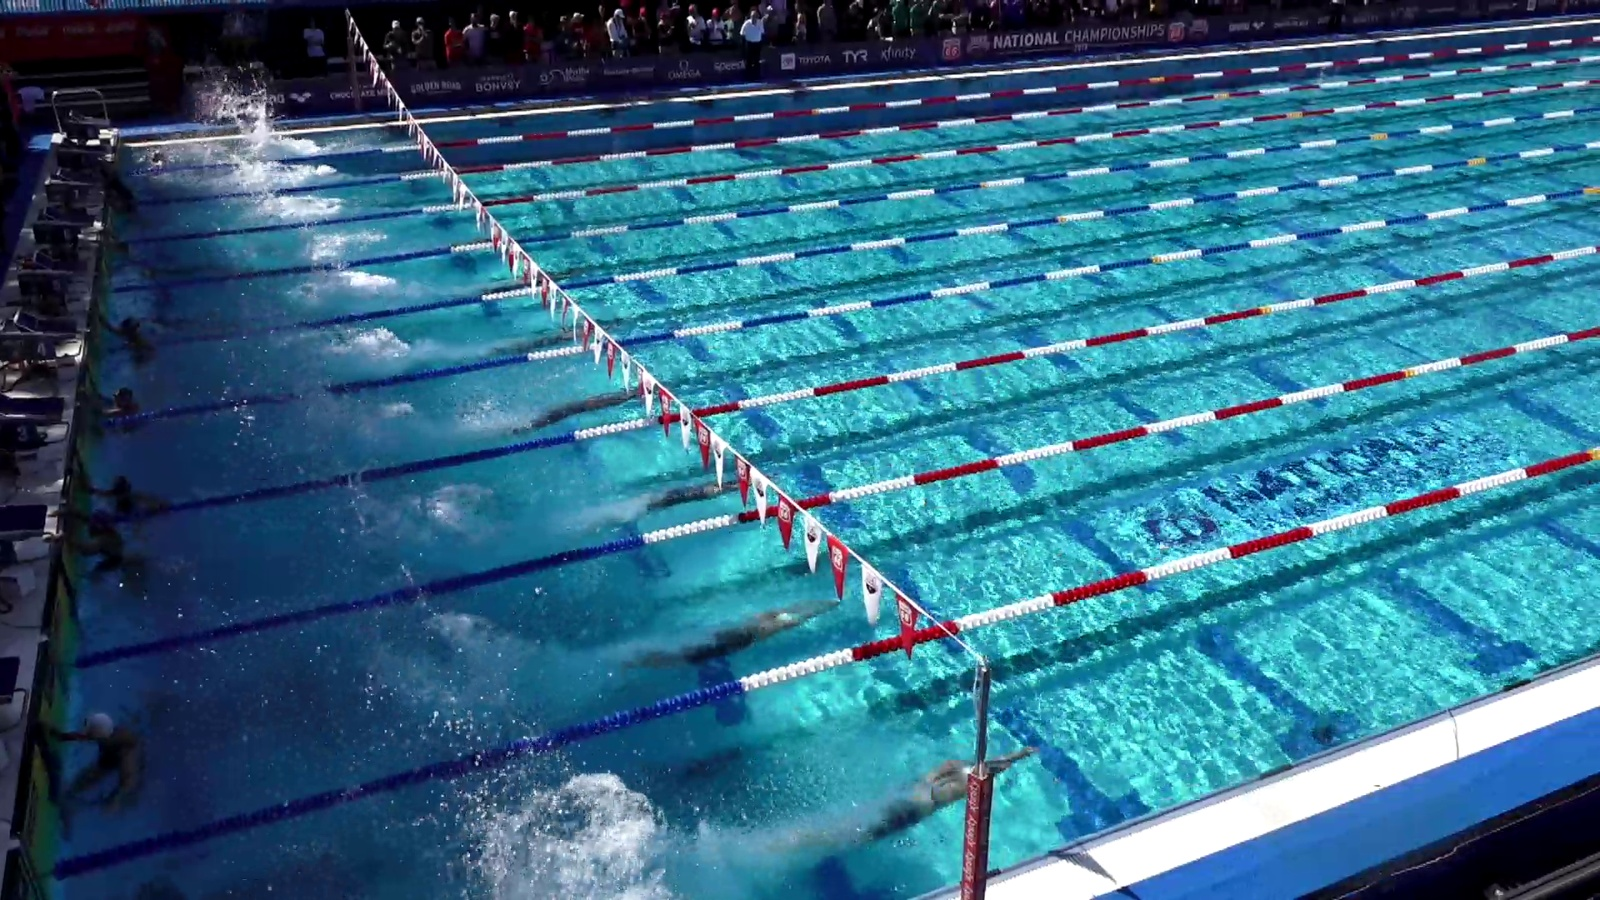swimmerw: (827, 741, 1046, 847), (638, 593, 842, 677), (501, 384, 662, 435), (480, 315, 630, 357), (614, 473, 749, 516), (495, 266, 597, 295), (448, 229, 524, 252), (422, 191, 479, 205)
